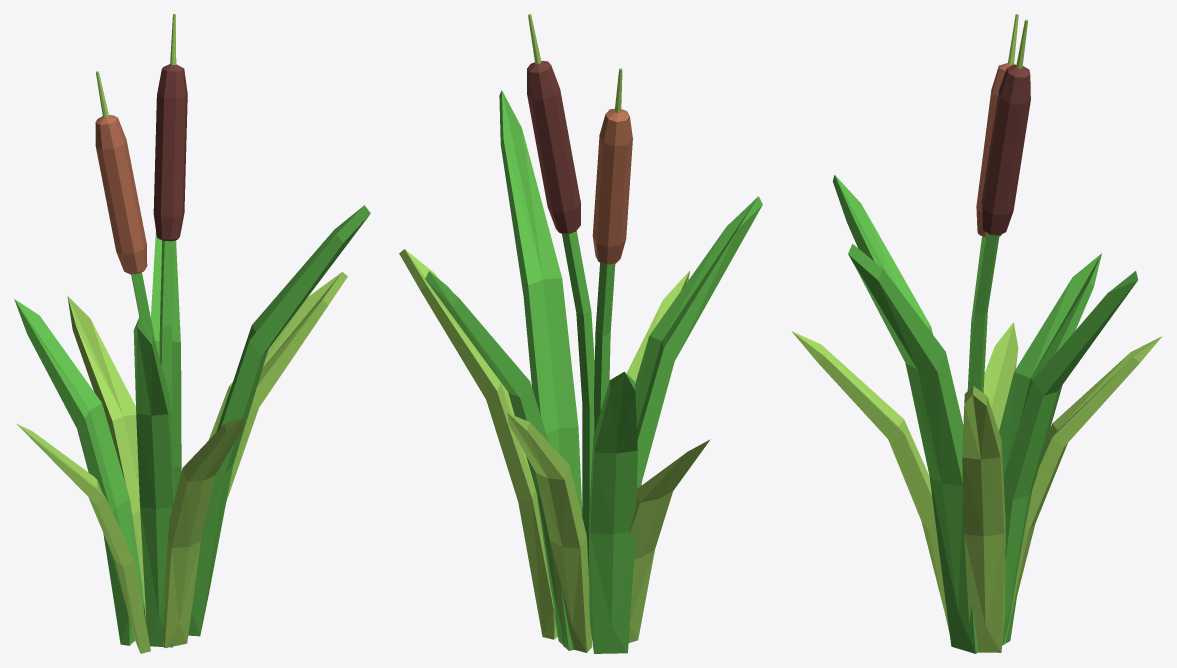
The model's file is Watter Battle 03.fbx.
The picture shows the model from 3 angles, left to right: view 1: azimuth 30°, elevation 25°; view 2: azimuth 150°, elevation 25°; view 3: azimuth 270°, elevation 25°; orthographic projection. The views are drawn at different scales.
Parts seen in each view (by area): view 1: Watter Battle 03; view 2: Watter Battle 03; view 3: Watter Battle 03.
Boxes of the visible parts, x1=… form: Watter Battle 03: x1=14, y1=14, x2=370, y2=653; Watter Battle 03: x1=399, y1=14, x2=762, y2=653; Watter Battle 03: x1=791, y1=14, x2=1162, y2=653.
Bounding box in the file's own units: 75.3 × 138 × 72.81.
